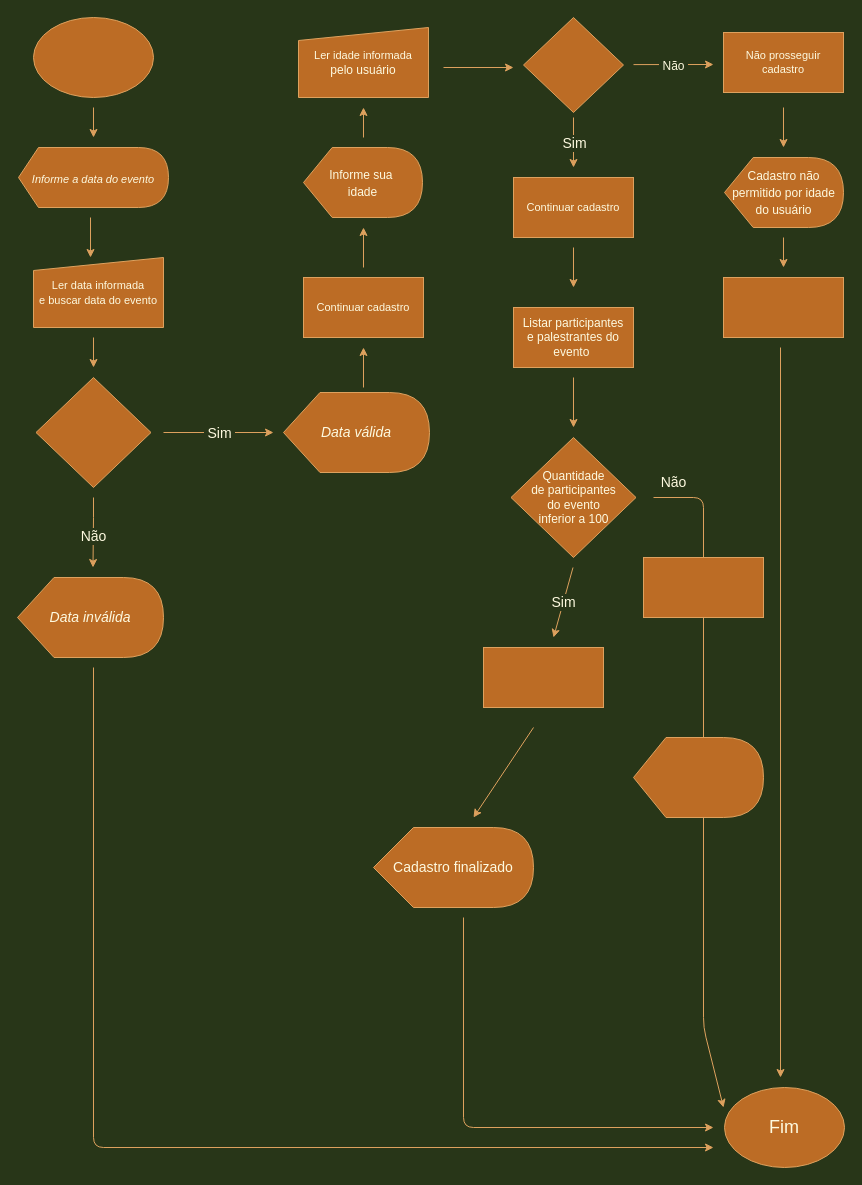
This 862x1185 diagram has some shape labels left out. The shapes that lost their labels are listed below. From the top down, each one's centre as x and y in pixels, then its label:
At (x=93, y=57): "Início".
At (x=573, y=64): "Se idade >= a 18".
At (x=783, y=307): "Finalizar processo".
At (x=93, y=432): "Se data do evento for > data atual".
At (x=703, y=587): "Finalizar cadastro".
At (x=543, y=677): "Permitir cadastro".
At (x=698, y=777): "Cadastro não permitido por exceder o limite de participantes".
